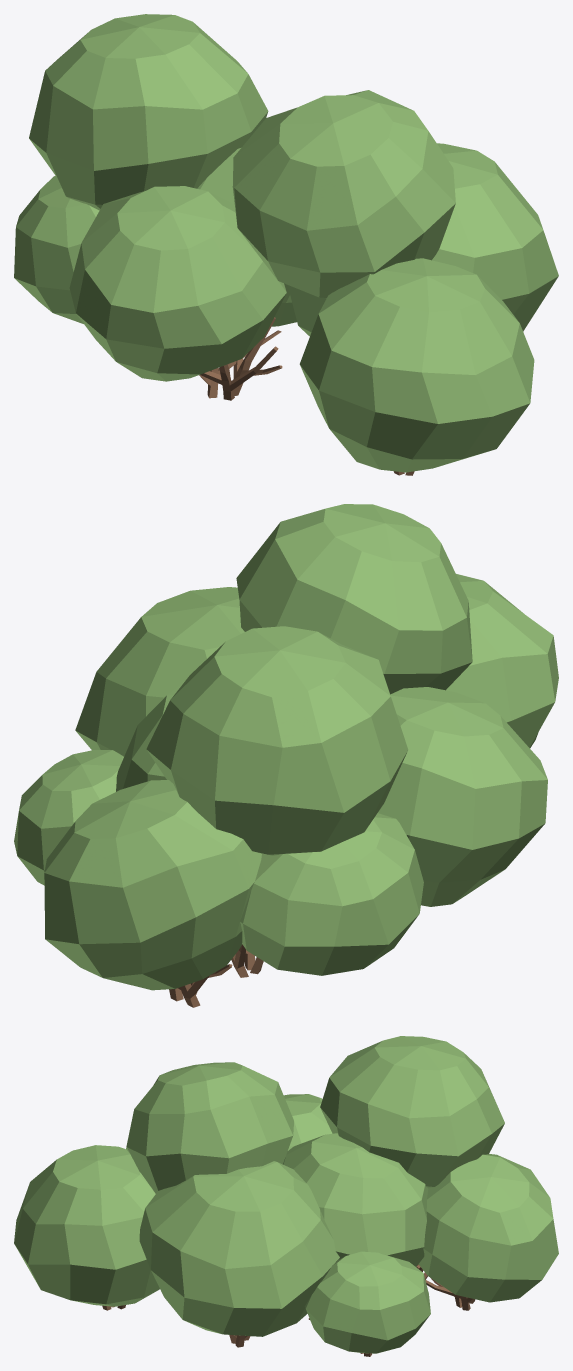
Rendered from Bushes_bush_03.004.fbx.
3 renders of one model, top to bottom at view 1: azimuth 30°, elevation 25°; view 2: azimuth 150°, elevation 25°; view 3: azimuth 270°, elevation 25°, orthographic. The views are drawn at different scales.
Parts seen in each view (by area): view 1: Bushes_bush_03.004; view 2: Bushes_bush_03.004; view 3: Bushes_bush_03.004.
Part boxes in pixels (x1,y1,x2,y2): Bushes_bush_03.004: (14, 14, 558, 475); Bushes_bush_03.004: (14, 504, 558, 1007); Bushes_bush_03.004: (14, 1036, 558, 1356).
Bounding box in the file's own units: 158 × 113 × 230.
